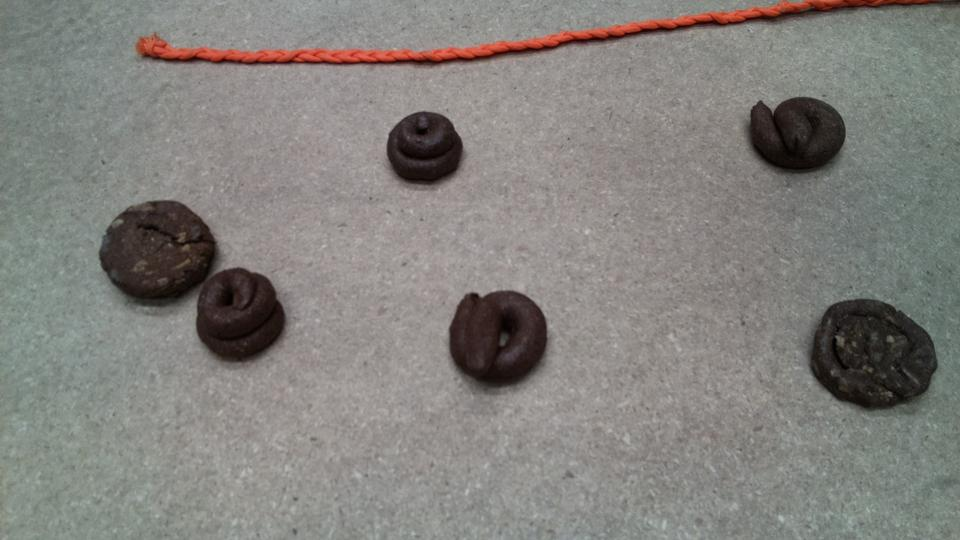poop: (806, 296, 941, 413), (96, 195, 226, 304), (446, 287, 551, 389), (190, 264, 288, 369), (745, 93, 847, 177), (383, 107, 470, 188)
rope: (134, 1, 871, 68)
